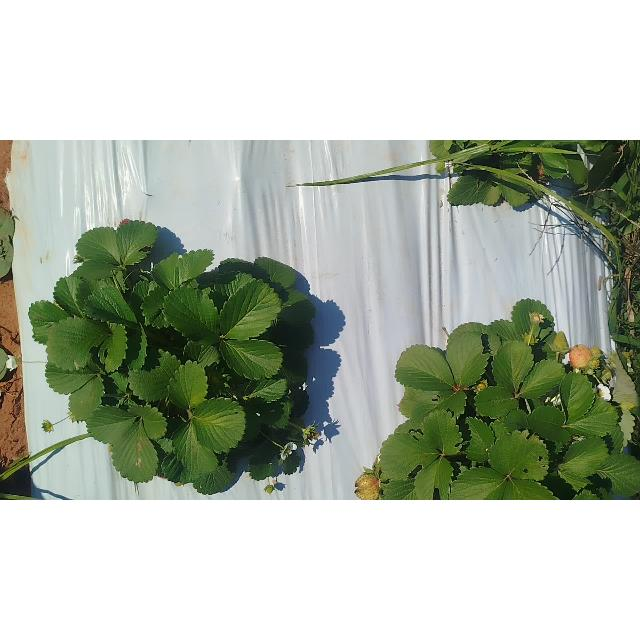no-maduro: (354, 474, 378, 500), (552, 331, 568, 352)
semi-maduro: (567, 344, 591, 368)
